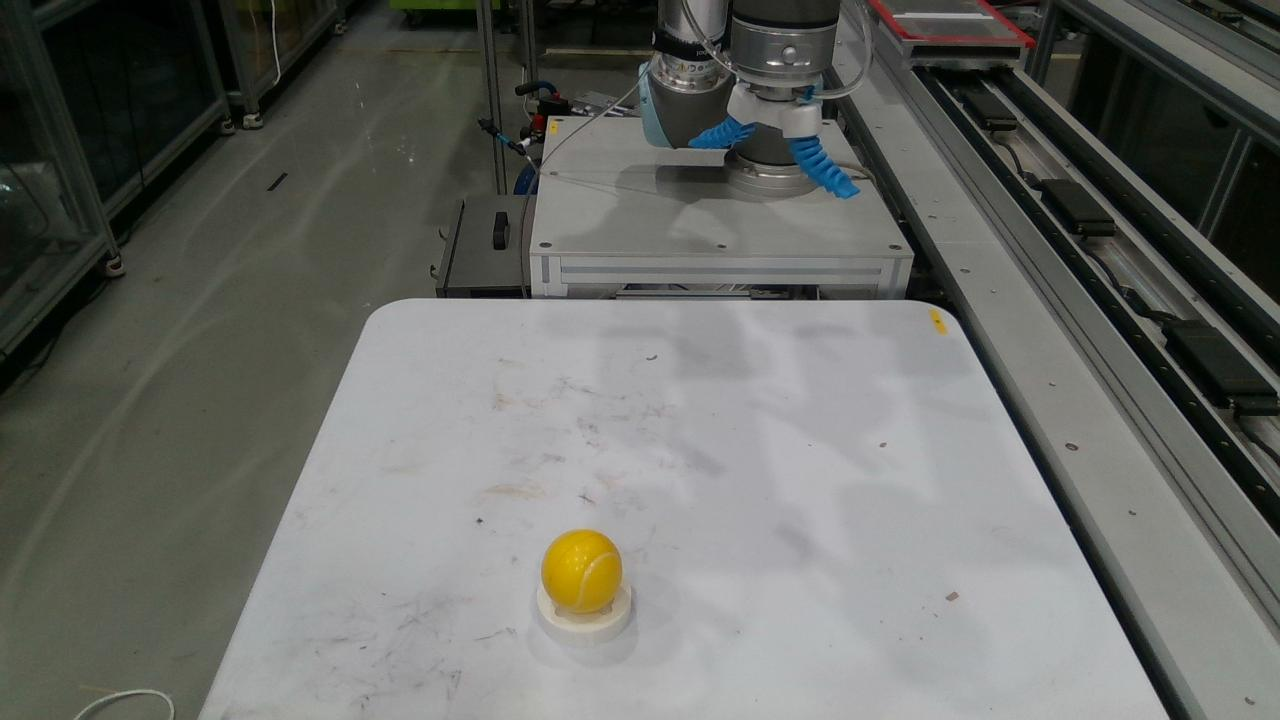UR5: (640, 0, 839, 197)
gripper_left: (690, 115, 755, 148)
gripper_right: (794, 136, 854, 197)
target: (544, 531, 618, 611), (537, 584, 631, 645)
